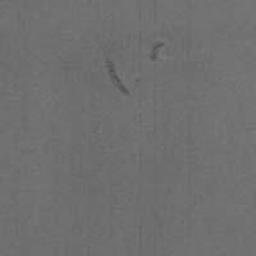Inclusion: (106, 58, 129, 95), (150, 42, 165, 61)
